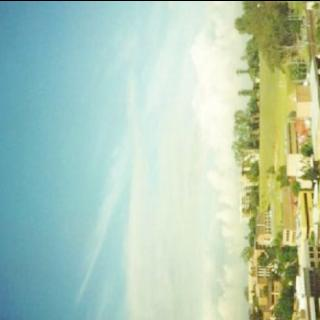Stratocumulus: (0, 0, 250, 320)
